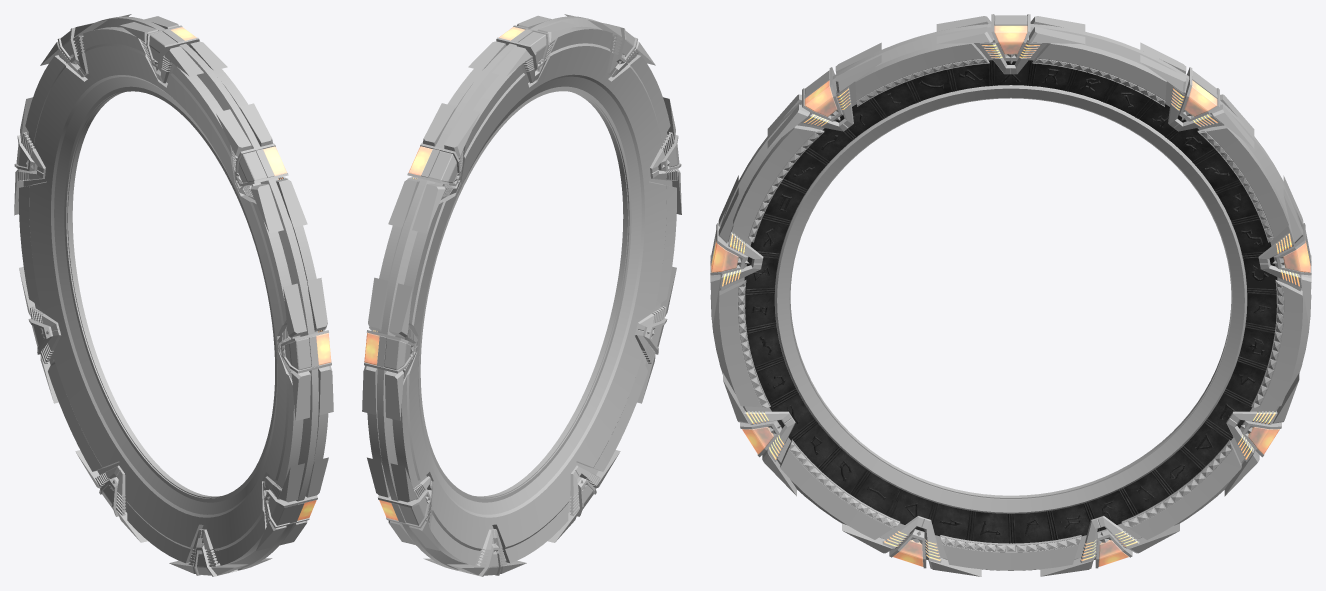
3 renders of one model, left to right at view 1: azimuth 30°, elevation 25°; view 2: azimuth 150°, elevation 25°; view 3: azimuth 270°, elevation 25°, orthographic. The views are drawn at different scales.
Parts seen in each view (by area): view 1: gate, chevron_frame007_Chevron_0, chevron_frame008_Chevron_0, chevron_frame006_Chevron_0, chevron_frame_Chevron_0, chevron_frame005_Chevron_0, chevron_frame003_Chevron_0, chevron_frame004_Chevron_0, chevron_frame002_Chevron_0, chevron_frame001_Chevron_0, chevron_light_back007_Chevron_unlit_0, chevron_light_back008_Chevron_unlit_0 (+8 smaller); view 2: gate, chevron_frame002_Chevron_0, chevron_frame001_Chevron_0, chevron_frame003_Chevron_0, chevron_frame_Chevron_0, chevron_frame004_Chevron_0, chevron_frame006_Chevron_0, chevron_frame005_Chevron_0, chevron_frame007_Chevron_0, chevron_frame008_Chevron_0, chevron_light_back002_Chevron_unlit_0, chevron_light_back001_Chevron_unlit_0 (+8 smaller); view 3: gate, gate_ring, chevron_frame_Chevron_0, chevron_frame008_Chevron_0, chevron_frame001_Chevron_0, chevron_frame002_Chevron_0, chevron_frame007_Chevron_0, chevron_frame004_Chevron_0, chevron_frame005_Chevron_0, chevron_frame003_Chevron_0, chevron_frame006_Chevron_0, chevron004_Chevron_0 (+9 smaller).
Part boxes in pixels (bbox=[...]): gate: bbox=[18, 16, 328, 569]; chevron_frame007_Chevron_0: bbox=[280, 277, 333, 420]; chevron_frame008_Chevron_0: bbox=[216, 103, 307, 233]; chevron_frame006_Chevron_0: bbox=[256, 457, 328, 550]; chevron_frame_Chevron_0: bbox=[120, 16, 227, 76]; chevron_frame005_Chevron_0: bbox=[169, 543, 272, 576]; chevron_frame003_Chevron_0: bbox=[19, 267, 58, 403]; chevron_frame004_Chevron_0: bbox=[75, 450, 147, 542]; chevron_frame002_Chevron_0: bbox=[14, 97, 37, 215]; chevron_frame001_Chevron_0: bbox=[40, 14, 131, 65]; chevron_light_back007_Chevron_unlit_0: bbox=[285, 337, 311, 370]; chevron_light_back008_Chevron_unlit_0: bbox=[238, 151, 267, 183]; gate: bbox=[367, 16, 676, 569]; chevron_frame002_Chevron_0: bbox=[362, 277, 415, 420]; chevron_frame001_Chevron_0: bbox=[388, 103, 479, 233]; chevron_frame003_Chevron_0: bbox=[367, 457, 439, 550]; chevron_frame_Chevron_0: bbox=[468, 15, 575, 76]; chevron_frame004_Chevron_0: bbox=[423, 542, 526, 576]; chevron_frame006_Chevron_0: bbox=[637, 267, 676, 403]; chevron_frame005_Chevron_0: bbox=[547, 450, 620, 542]; chevron_frame007_Chevron_0: bbox=[658, 97, 681, 214]; chevron_frame008_Chevron_0: bbox=[564, 14, 655, 65]; chevron_light_back002_Chevron_unlit_0: bbox=[384, 337, 410, 370]; chevron_light_back001_Chevron_unlit_0: bbox=[428, 151, 457, 182]; gate: bbox=[710, 24, 1311, 570]; gate_ring: bbox=[744, 60, 1277, 543]; chevron_frame_Chevron_0: bbox=[936, 14, 1085, 63]; chevron_frame008_Chevron_0: bbox=[767, 42, 881, 148]; chevron_frame001_Chevron_0: bbox=[1140, 42, 1254, 148]; chevron_frame002_Chevron_0: bbox=[1272, 175, 1311, 326]; chevron_frame007_Chevron_0: bbox=[710, 175, 749, 326]; chevron_frame004_Chevron_0: bbox=[1040, 523, 1179, 576]; chevron_frame005_Chevron_0: bbox=[842, 523, 981, 576]; chevron_frame003_Chevron_0: bbox=[1224, 373, 1299, 496]; chevron_frame006_Chevron_0: bbox=[723, 373, 796, 496]; chevron004_Chevron_0: bbox=[1080, 516, 1139, 562].
Bounding box in the file's own units: 0.4279 × 5.23 × 5.22.
